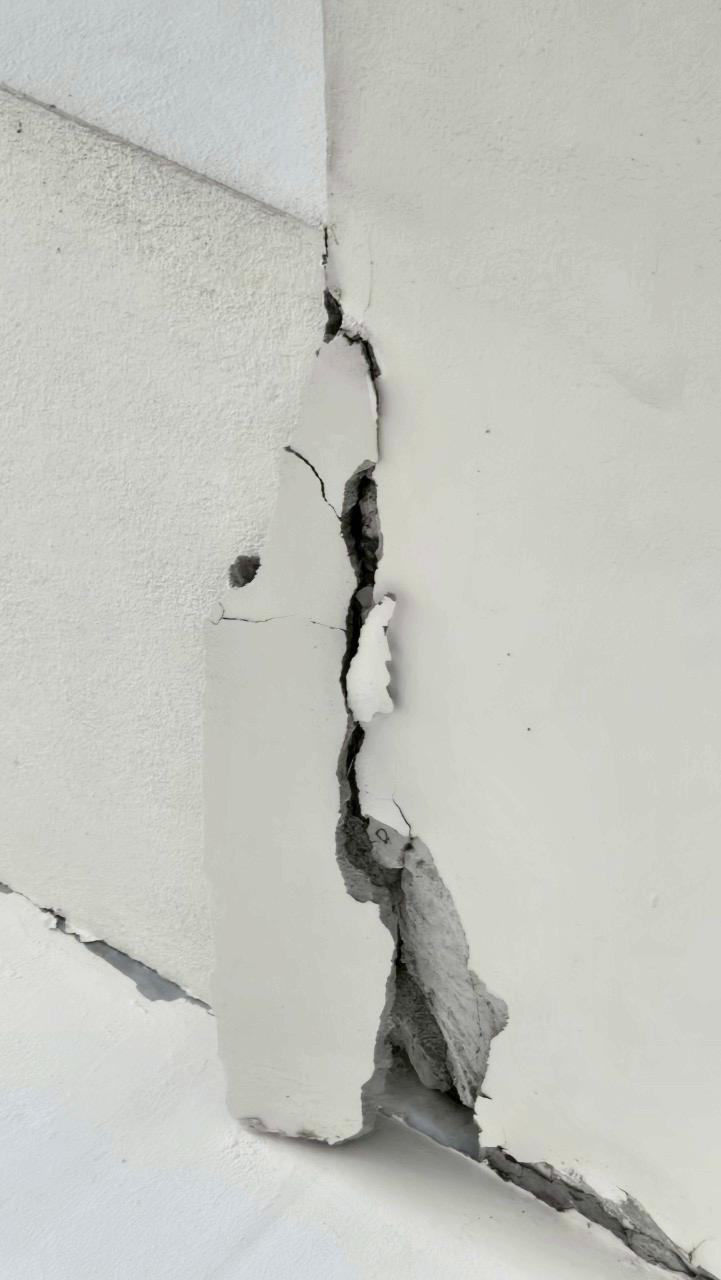High: (152, 207, 721, 1278)
